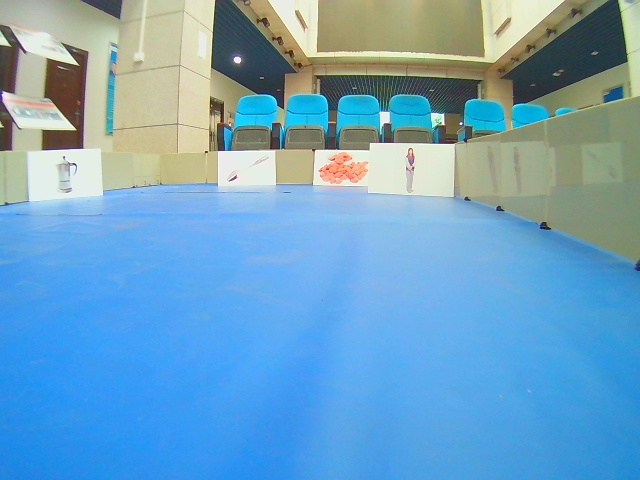dish: (27, 149, 106, 202), (216, 149, 279, 192)
food: (312, 147, 370, 189)
person: (368, 141, 456, 198)
